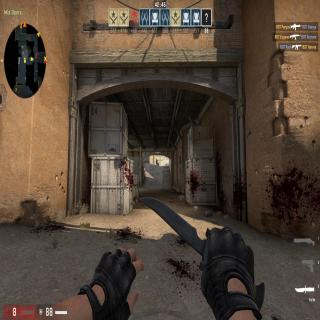CT-Body: (156, 157, 158, 166)
CT-Head: (156, 158, 158, 160)
